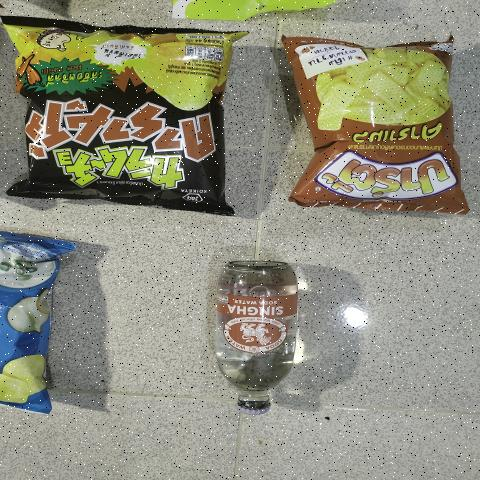karamujo: (26, 33, 229, 205)
party_red: (300, 47, 447, 201)
singha_soda: (215, 258, 295, 420)
